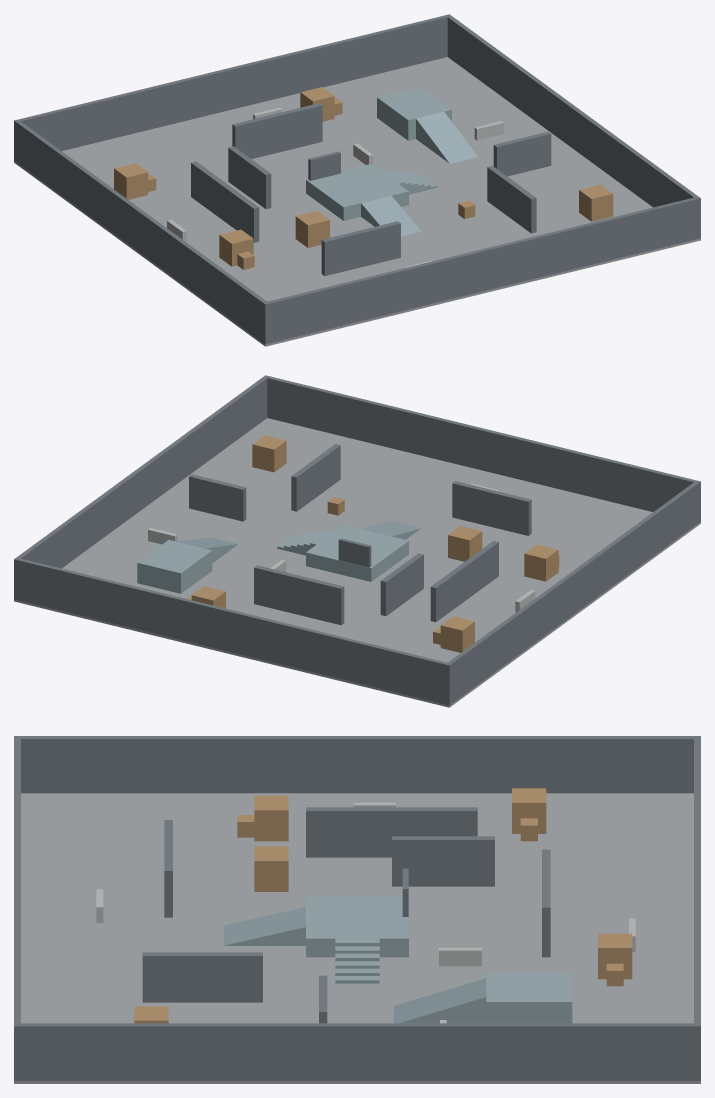
Rendered from Test_map_01.glb.
3 renders of one model, top to bottom at view 1: azimuth 30°, elevation 25°; view 2: azimuth 150°, elevation 25°; view 3: azimuth 270°, elevation 25°, orthographic. The views are drawn at different scales.
Parts seen in each view (by area): view 1: Map_Floor, Wall_South, Wall_North, Wall_West, Wall_East, Route_North_Screen, Center_Platform, Route_Southwest_Screen, Route_West_Outer_Baffle, Side_Platform, Route_Southeast_Screen, Route_East_Screen (+10 smaller); view 2: Map_Floor, Wall_North, Wall_South, Wall_West, Wall_East, Route_North_Screen, Center_Platform, Route_Southwest_Screen, Side_Platform, Route_West_Outer_Baffle, Route_Southeast_Screen, Route_East_Screen (+10 smaller); view 3: Map_Floor, Wall_East, Wall_West, Route_West_Outer_Baffle, Route_East_Screen, Center_Platform, Route_West_Inner_Baffle, Side_Platform, Side_Ramp, Center_Ramp, Wall_North, Wall_South (+9 smaller).
Boxes of the visible parts, x1=… form: Map_Floor: x1=14, y1=57, x2=700, y2=346; Wall_South: x1=263, y1=196, x2=700, y2=344; Wall_North: x1=14, y1=14, x2=451, y2=161; Wall_West: x1=16, y1=121, x2=266, y2=342; Wall_East: x1=447, y1=16, x2=697, y2=207; Route_North_Screen: x1=232, y1=103, x2=322, y2=158; Center_Platform: x1=306, y1=164, x2=408, y2=220; Route_Southwest_Screen: x1=321, y1=221, x2=400, y2=275; Route_West_Outer_Baffle: x1=191, y1=161, x2=259, y2=242; Side_Platform: x1=377, y1=86, x2=451, y2=140; Route_Southeast_Screen: x1=493, y1=131, x2=551, y2=176; Route_East_Screen: x1=487, y1=166, x2=536, y2=233; Map_Floor: x1=14, y1=418, x2=700, y2=707; Wall_North: x1=14, y1=557, x2=451, y2=705; Wall_South: x1=263, y1=375, x2=700, y2=522; Wall_West: x1=448, y1=482, x2=698, y2=703; Wall_East: x1=17, y1=377, x2=267, y2=568; Route_North_Screen: x1=254, y1=565, x2=344, y2=625; Center_Platform: x1=306, y1=525, x2=408, y2=581; Route_Southwest_Screen: x1=452, y1=481, x2=531, y2=535; Side_Platform: x1=137, y1=540, x2=212, y2=593; Route_West_Outer_Baffle: x1=430, y1=541, x2=498, y2=622; Route_Southeast_Screen: x1=189, y1=474, x2=246, y2=521; Route_East_Screen: x1=291, y1=444, x2=340, y2=511; Map_Floor: x1=14, y1=793, x2=700, y2=1083; Wall_East: x1=21, y1=1023, x2=693, y2=1080; Wall_West: x1=21, y1=736, x2=693, y2=793; Route_West_Outer_Baffle: x1=306, y1=807, x2=477, y2=857; Route_East_Screen: x1=142, y1=952, x2=262, y2=1002; Center_Platform: x1=306, y1=895, x2=408, y2=957; Route_West_Inner_Baffle: x1=392, y1=836, x2=494, y2=886; Side_Platform: x1=486, y1=973, x2=572, y2=1023; Side_Ramp: x1=393, y1=978, x2=486, y2=1023; Center_Ramp: x1=223, y1=907, x2=305, y2=945; Wall_North: x1=694, y1=736, x2=700, y2=1080; Wall_South: x1=14, y1=736, x2=20, y2=1080.
Bounding box in the file's own units: 40 × 3.7 × 40.
